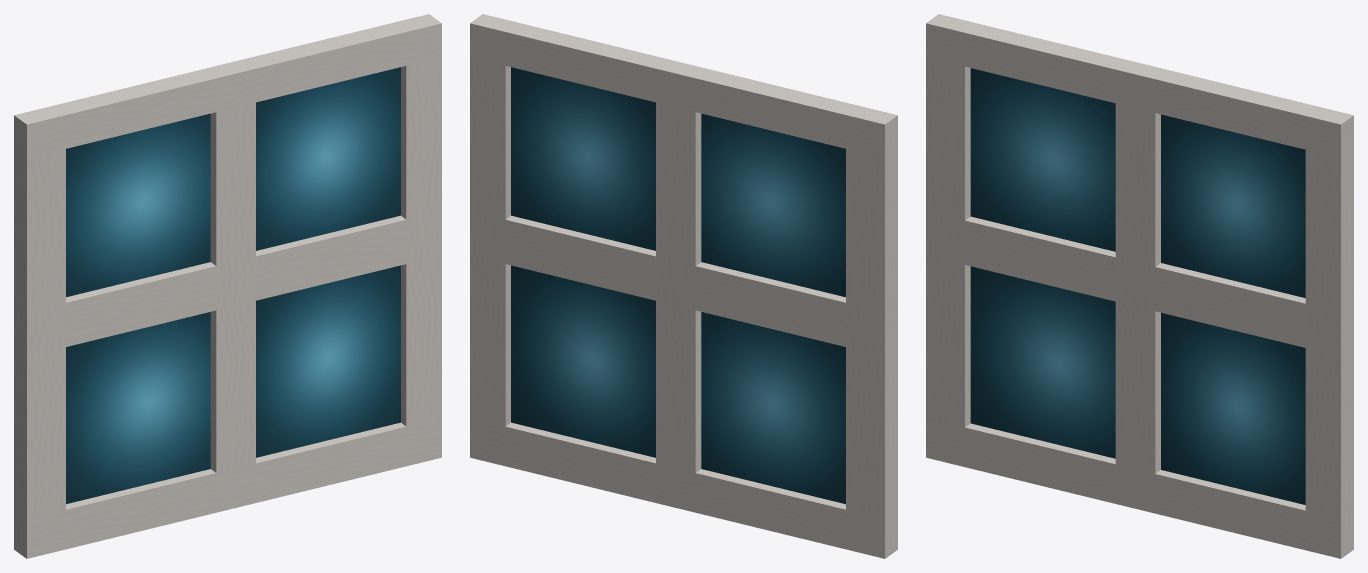
File: Window_Small_B.FBX
The picture shows the model from 3 angles, left to right: view 1: azimuth 30°, elevation 25°; view 2: azimuth 150°, elevation 25°; view 3: azimuth 330°, elevation 25°; orthographic projection.
Visible parts, largest first — view 1: Window_Square; view 2: Window_Square; view 3: Window_Square.
Boxes of the visible parts, x1,y1,x2,y2 form: Window_Square: (14,14,441,558); Window_Square: (470,14,897,558); Window_Square: (926,14,1353,558).
Bounding box in the file's own units: 150 × 150 × 8.
